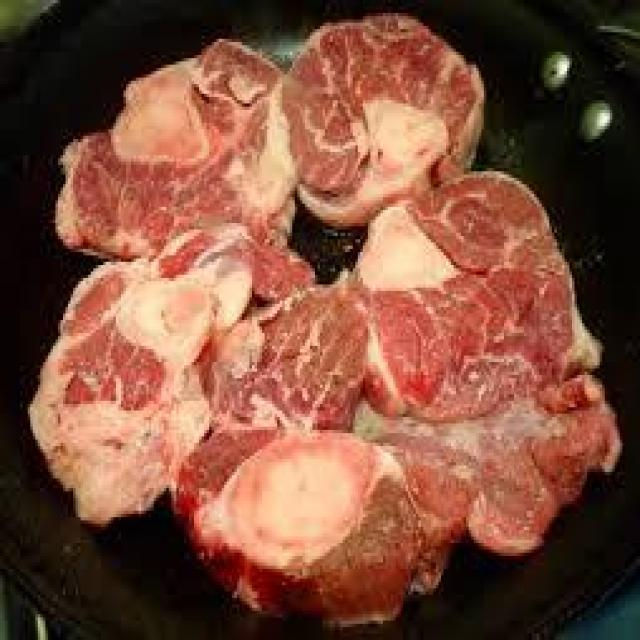Wet Waste: (69, 18, 296, 253)
